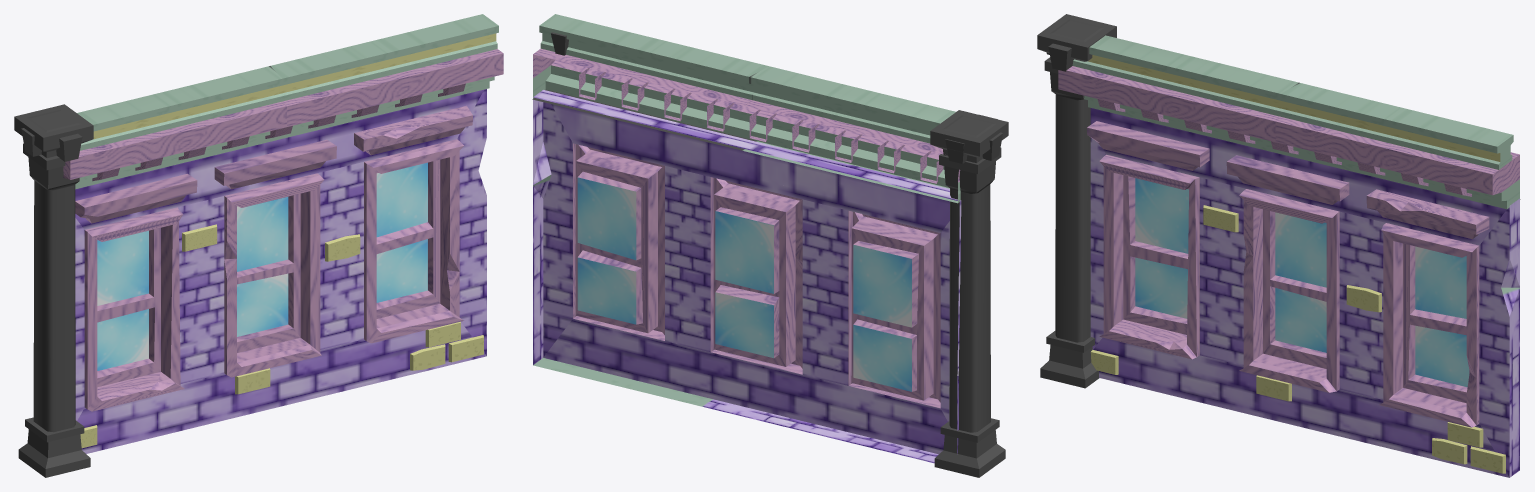
File: House_Front_05_1Pillar.fbx
The picture shows the model from 3 angles, left to right: view 1: azimuth 30°, elevation 25°; view 2: azimuth 150°, elevation 25°; view 3: azimuth 330°, elevation 25°; orthographic projection.
Parts seen in each view (by area): view 1: Column_05; view 2: Column_05; view 3: Column_05.
Boxes of the visible parts, bbox=[...] form: Column_05: bbox=[14, 14, 503, 477]; Column_05: bbox=[532, 14, 1008, 477]; Column_05: bbox=[1037, 14, 1520, 477].
Bounding box in the file's own units: 532 × 377 × 68.66.
